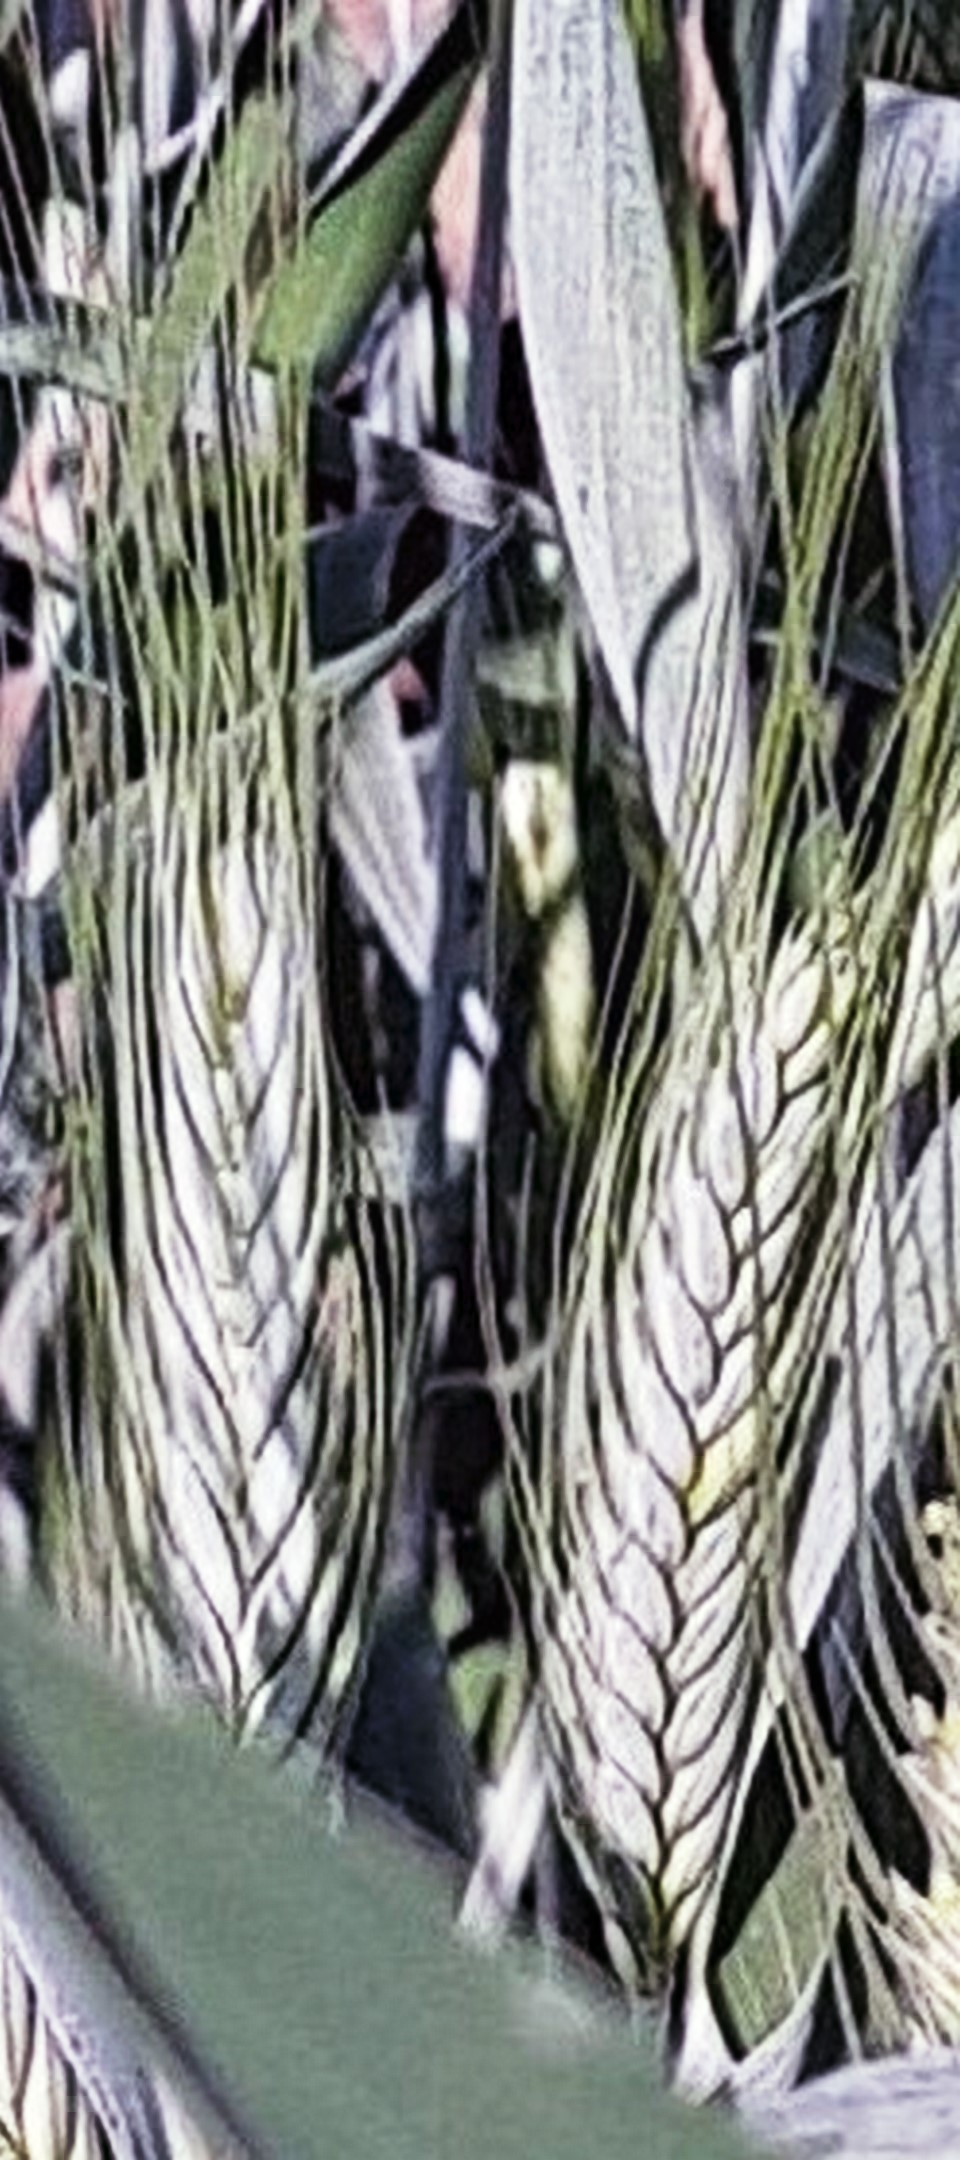Healthy Wheat: (537, 911, 909, 1924)
